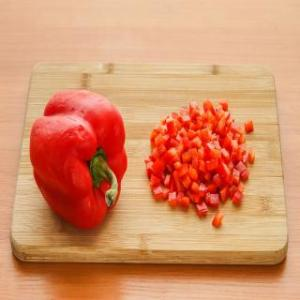bell_pepper: (29, 84, 127, 227)
